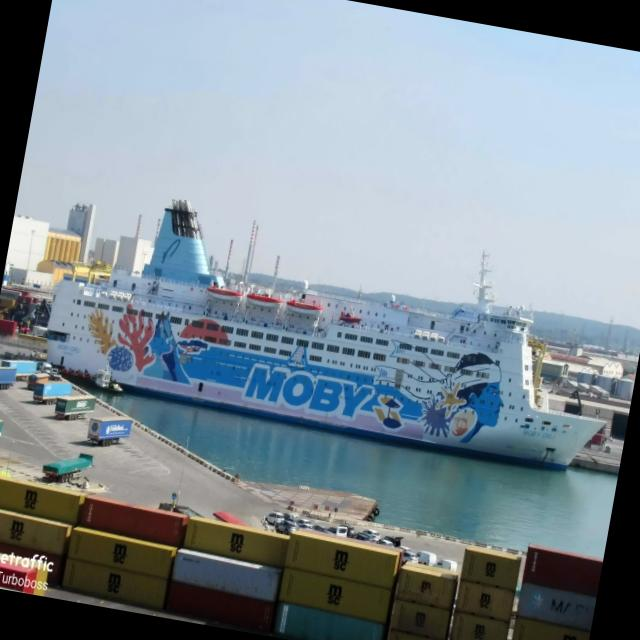Cruise: (47, 201, 603, 469)
